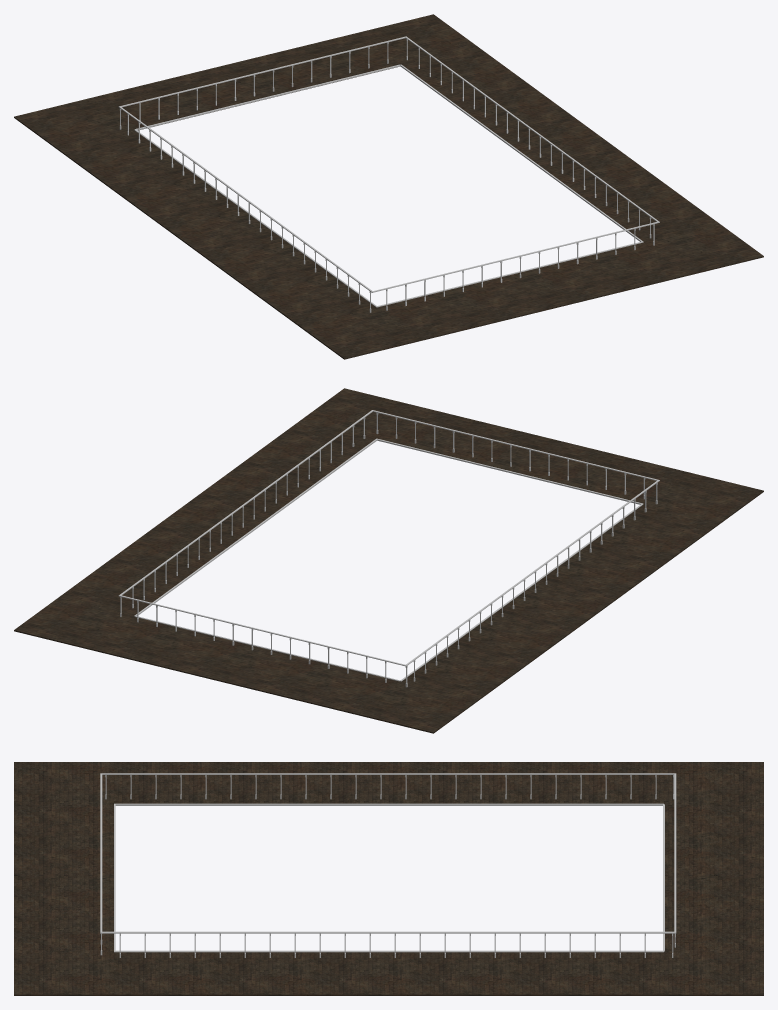
The model's file is balcony_level_22m_x_30m.fbx.
3 views of the same model, one above another, from view 1: azimuth 30°, elevation 25°; view 2: azimuth 150°, elevation 25°; view 3: azimuth 270°, elevation 25° (orthographic). The views are drawn at different scales.
Parts seen in each view (by area): view 1: balcony_level_22m_x_30m; view 2: balcony_level_22m_x_30m; view 3: balcony_level_22m_x_30m.
Boxes of the visible parts, bbox=[...] form: balcony_level_22m_x_30m: bbox=[14, 14, 763, 359]; balcony_level_22m_x_30m: bbox=[14, 388, 763, 733]; balcony_level_22m_x_30m: bbox=[14, 762, 763, 995].
Bounding box in the file's own units: 2200 × 118 × 3000.
